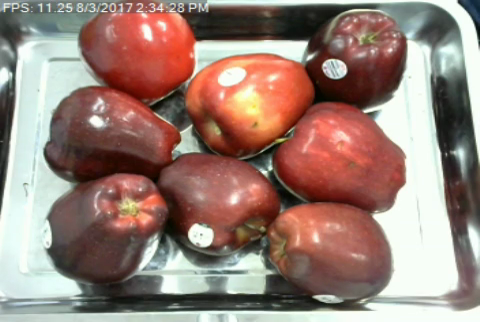Apple: (271, 98, 409, 214), (39, 170, 172, 285), (186, 51, 319, 162), (259, 200, 395, 304), (42, 85, 183, 182), (156, 150, 280, 259), (76, 1, 201, 105), (299, 6, 409, 112)
